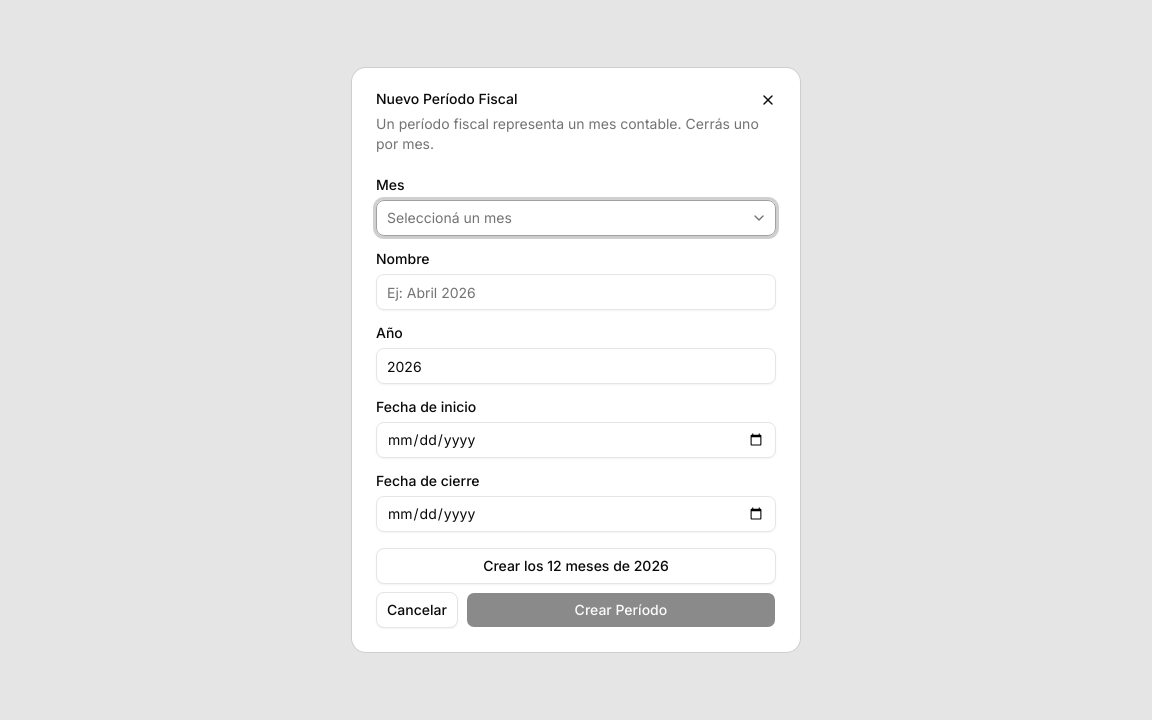
Test: UX-T05 — Warning visible con rango cross-month (REQ-4) › muestra el warning cuando startDate='2026-01-01' y endDate='2026-12-31'
The width and height of the screenshot is (1152, 720).
Type "2026-01-01" into the date field labelled "Fecha de inicio" at (576, 440), box 376,422 -> 776,458
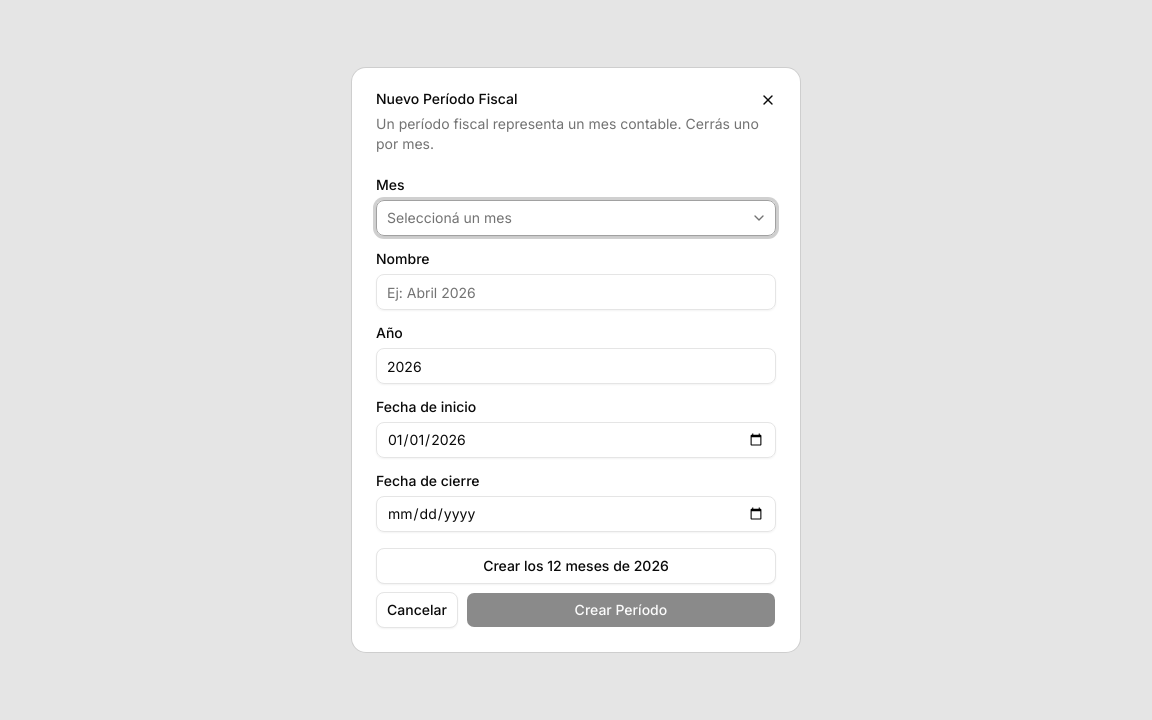
Type "2026-12-31" into the date field labelled "Fecha de cierre" at (576, 514), box 376,496 -> 776,532
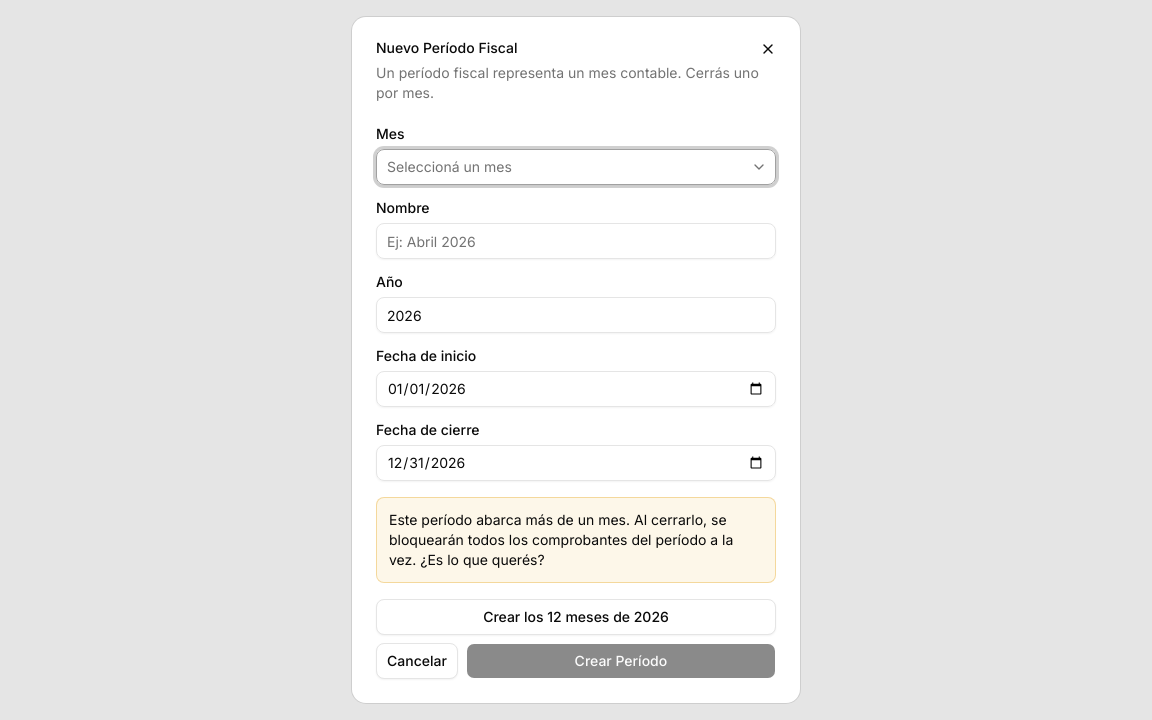
expect the message shows "Este período abarca más de un mes": met, box 389,511 -> 733,568
